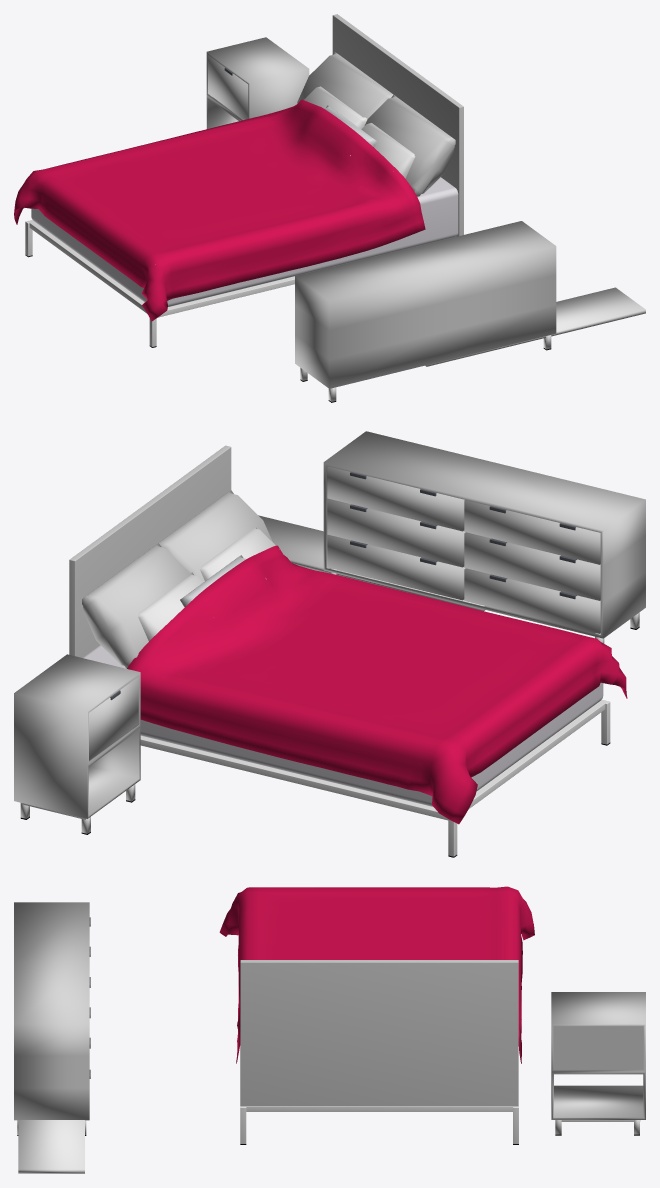
File: beds.dae
3 views of the same model, one above another, from view 1: azimuth 30°, elevation 25°; view 2: azimuth 150°, elevation 25°; view 3: azimuth 270°, elevation 25° (orthographic). The views are drawn at different scales.
Visible parts, largest first — view 1: Ebene, W_rfel_4, W_rfel, Batdrasse, W_rfel_2_6, W_rfel_2_4, W_rfel_2_5, W_rfel_1_6, W_rfel_1_3_3, W_rfel_3, W_rfel_2_2, W_rfel_2_3; view 2: Ebene, W_rfel_5, W_rfel_4, W_rfel_2_6, W_rfel, Batdrasse, W_rfel_2_5, W_rfel_1_3_3, W_rfel_2_4, W_rfel_1_6, W_rfel_3, W_rfel_2_3 (+1 smaller); view 3: W_rfel, Ebene, W_rfel_4, W_rfel_2_6, W_rfel_1_6, W_rfel_1_3_3.
Boxes of the visible parts, <box> form: Ebene: <box>14,99,425,321</box>; W_rfel_4: <box>295,221,556,388</box>; W_rfel: <box>332,14,463,236</box>; Batdrasse: <box>31,177,458,306</box>; W_rfel_2_6: <box>206,37,309,128</box>; W_rfel_2_4: <box>364,95,455,196</box>; W_rfel_2_5: <box>297,52,394,118</box>; W_rfel_1_6: <box>425,287,645,366</box>; W_rfel_1_3_3: <box>27,220,294,317</box>; W_rfel_3: <box>208,55,248,119</box>; W_rfel_2_2: <box>361,122,415,178</box>; W_rfel_2_3: <box>304,86,367,129</box>; Ebene: <box>127,545,627,824</box>; W_rfel_5: <box>327,466,600,633</box>; W_rfel_4: <box>323,431,645,638</box>; W_rfel_2_6: <box>14,654,140,818</box>; W_rfel: <box>69,445,231,657</box>; Batdrasse: <box>83,645,603,806</box>; W_rfel_2_5: <box>82,543,190,668</box>; W_rfel_1_3_3: <box>140,699,607,820</box>; W_rfel_2_4: <box>158,490,272,582</box>; W_rfel_1_6: <box>258,515,484,611</box>; W_rfel_3: <box>89,677,138,759</box>; W_rfel_2_3: <box>138,572,203,640</box>; W_rfel: <box>240,960,518,1106</box>; Ebene: <box>219,886,534,1063</box>; W_rfel_4: <box>14,902,89,1120</box>; W_rfel_2_6: <box>551,992,645,1119</box>; W_rfel_1_6: <box>18,1120,84,1173</box>; W_rfel_1_3_3: <box>241,1106,517,1111</box>.
Size of the model in its own units: 13.64 by 16.72 by 5.31.
